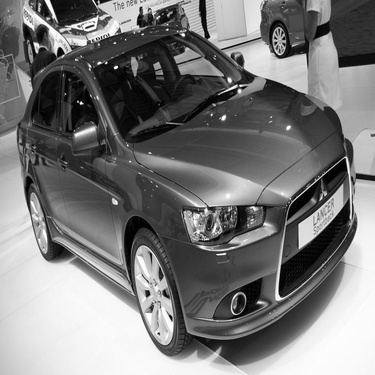car: (13, 19, 364, 362), (8, 1, 126, 74), (259, 2, 320, 60), (144, 5, 192, 60)
